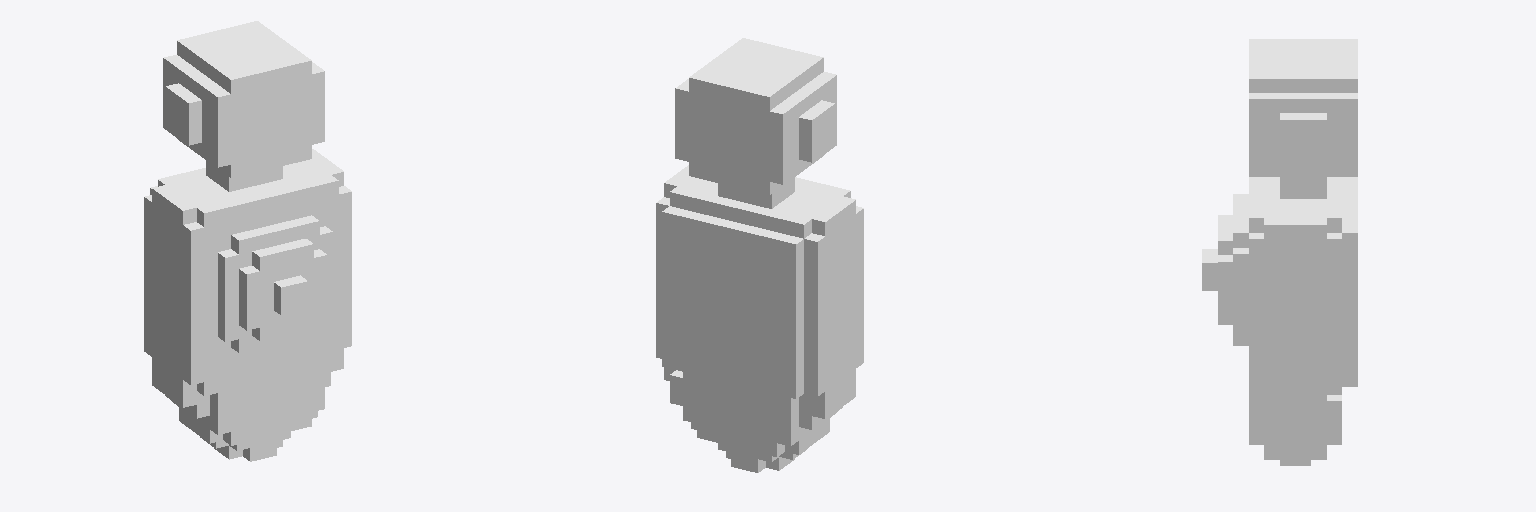
The model's file is pistolbot.obj.
The picture shows the model from 3 angles: view 1: azimuth 30°, elevation 25°; view 2: azimuth 150°, elevation 25°; view 3: azimuth 270°, elevation 25°; orthographic projection.
Visible parts, largest first — view 1: object 1; view 2: object 1; view 3: object 1.
Part boxes in pixels (x1,y1,x2,y2): object 1: (144,21,351,461); object 1: (656,38,863,472); object 1: (1202,39,1357,465).
Size of the model in its own units: 1.2 by 2.8 by 1.